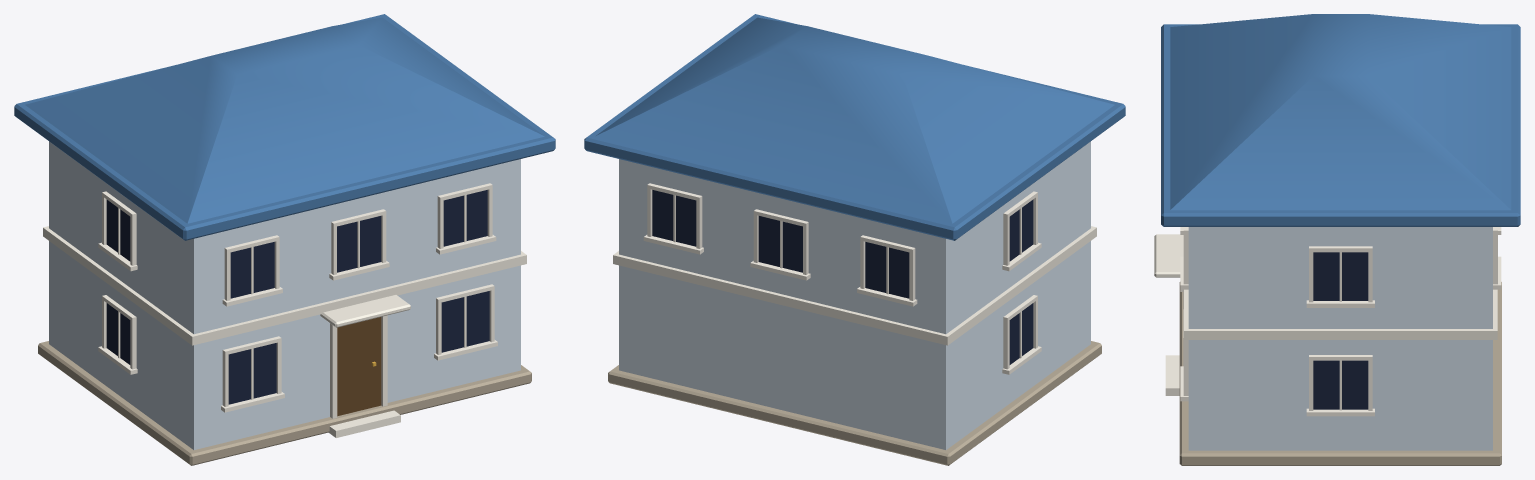
The model's file is house-b.glb.
3 renders of one model, left to right at view 1: azimuth 30°, elevation 25°; view 2: azimuth 150°, elevation 25°; view 3: azimuth 270°, elevation 25°, orthographic. The views are drawn at different scales.
Parts seen in each view (by area): view 1: house-b; view 2: house-b; view 3: house-b.
Part boxes in pixels (x1=…): house-b: x1=14, y1=14, x2=555, y2=465; house-b: x1=584, y1=14, x2=1125, y2=465; house-b: x1=1154, y1=14, x2=1520, y2=465.
Bounding box in the file's own units: 9.8 × 8 × 7.95.
